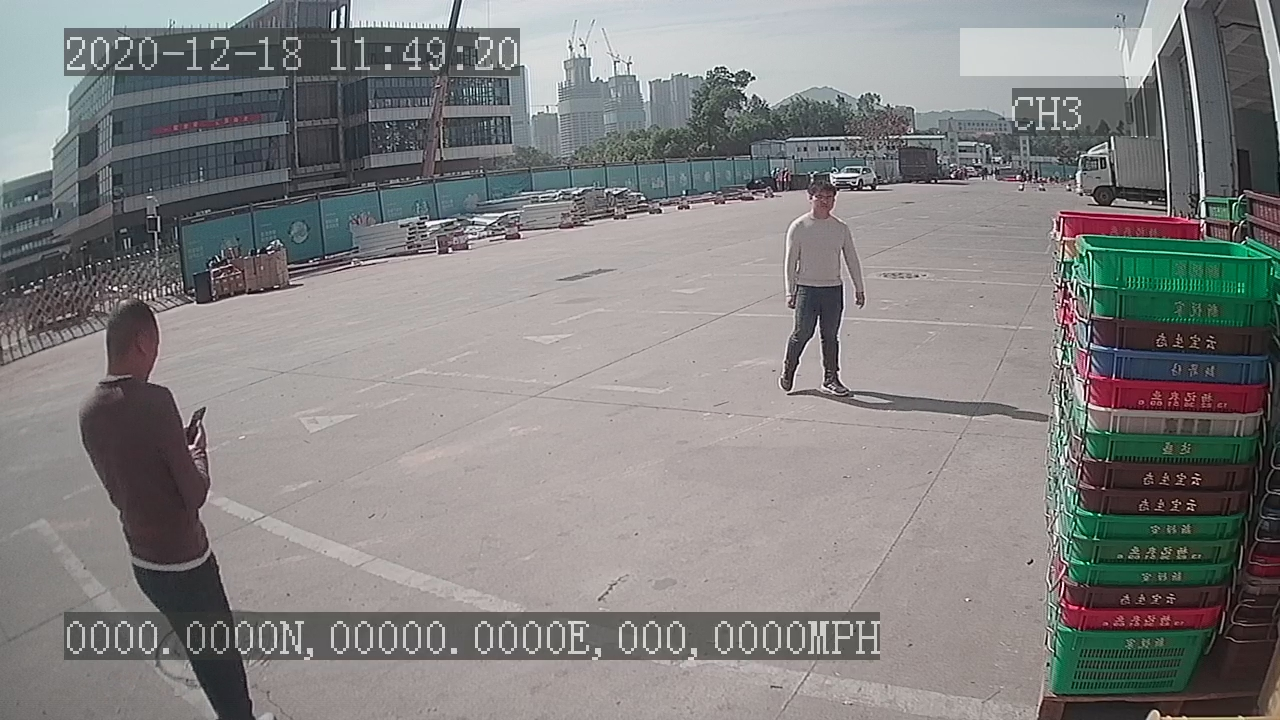person: (777, 177, 868, 399)
